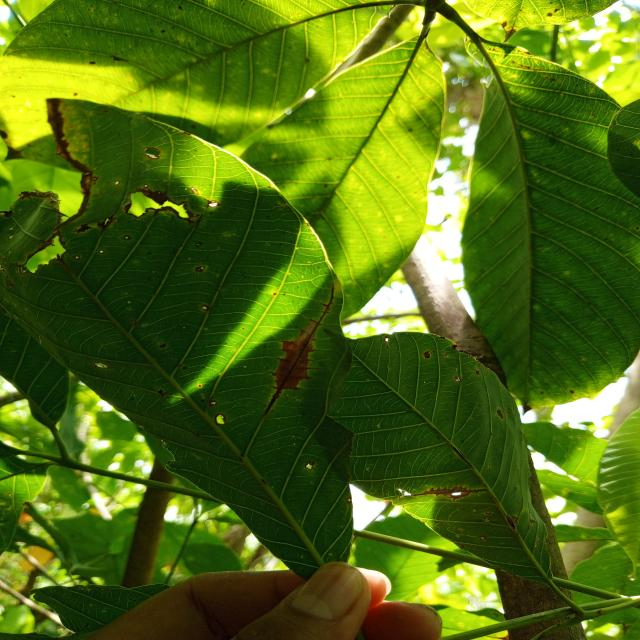Colletotrichum: (454, 375, 462, 382), (122, 235, 132, 240), (442, 353, 448, 358), (98, 250, 105, 254), (202, 306, 208, 310), (346, 498, 352, 502), (484, 518, 490, 522), (77, 255, 80, 261)
Corynespora: (260, 282, 337, 420), (412, 486, 488, 502)
